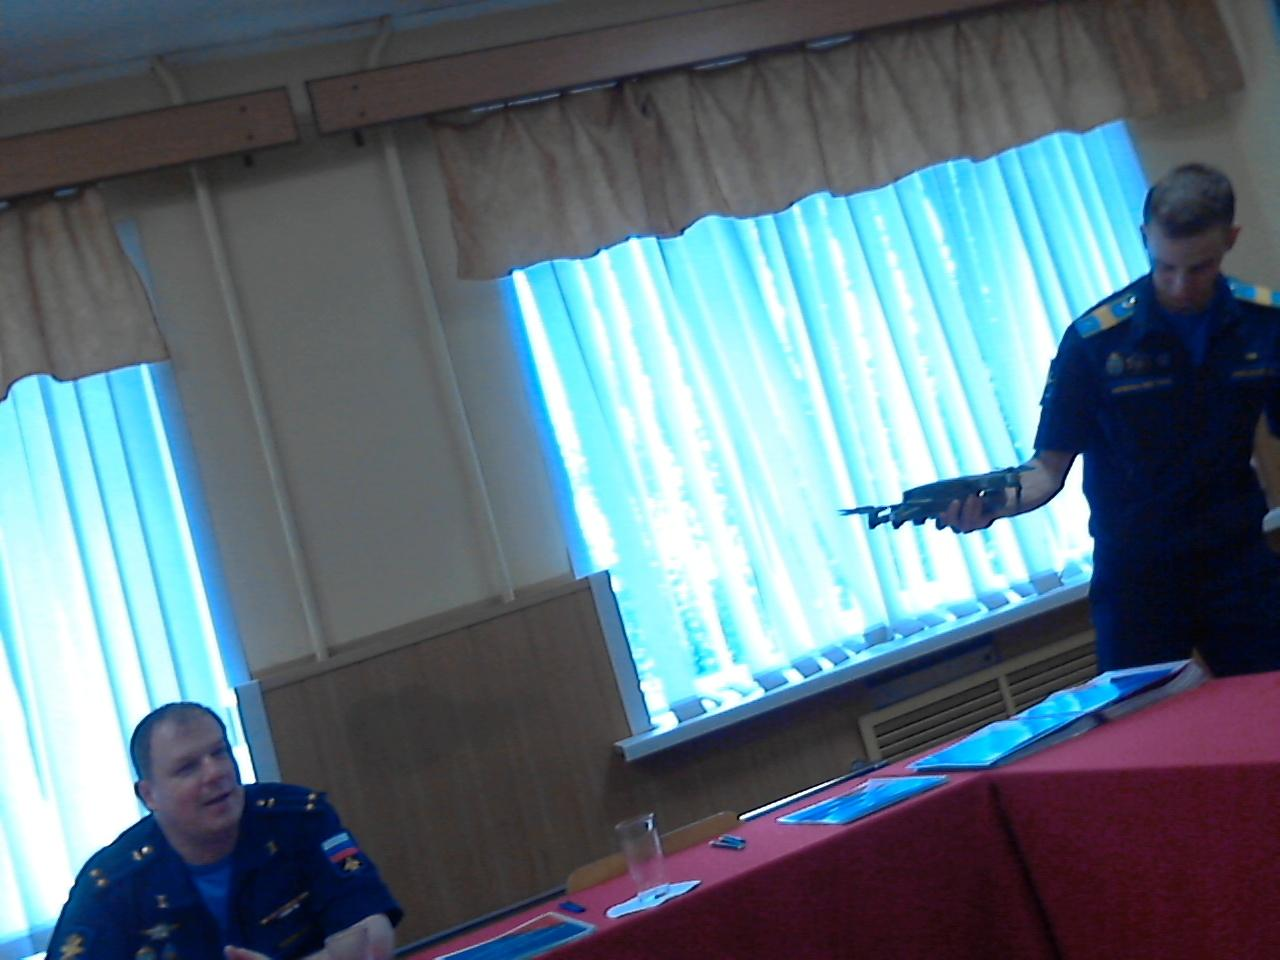drone: (833, 438, 1041, 539)
